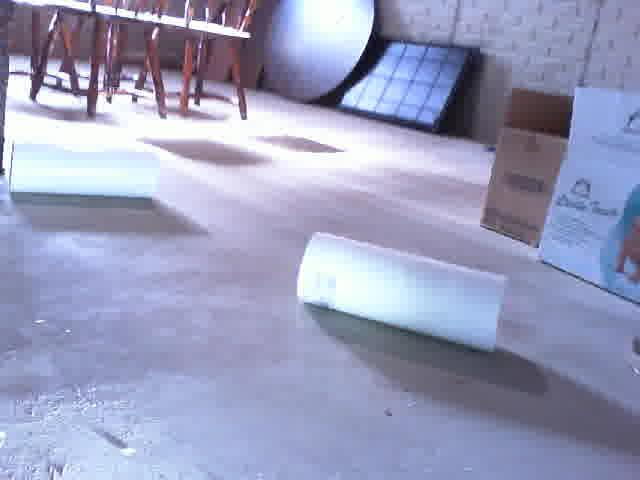coral: (296, 233, 508, 354), (9, 138, 160, 201)
